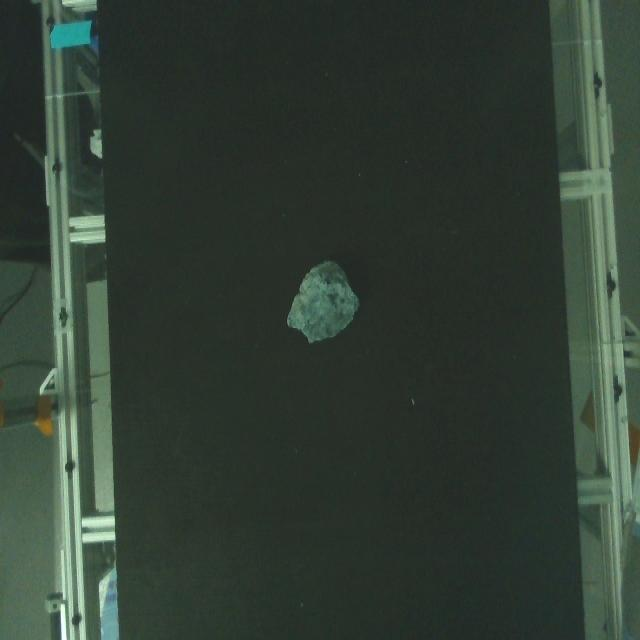non-paper: (281, 250, 367, 353)
